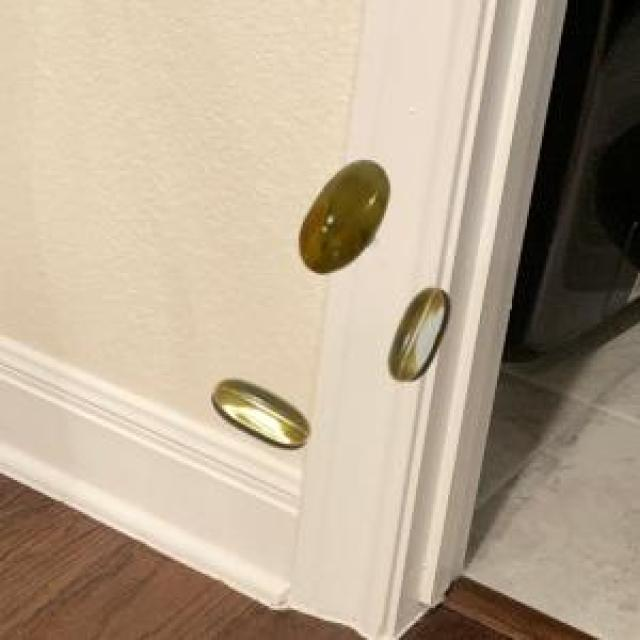Fish_Oil: (286, 149, 400, 281), (206, 368, 321, 470), (381, 282, 462, 400)
